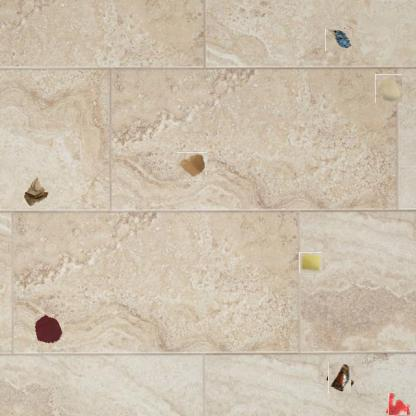dirty: (22, 176, 50, 208), (178, 152, 207, 180), (375, 74, 402, 103), (326, 364, 354, 391), (326, 28, 351, 53), (300, 252, 322, 274)
liquid: (34, 314, 64, 344), (387, 394, 408, 416)
